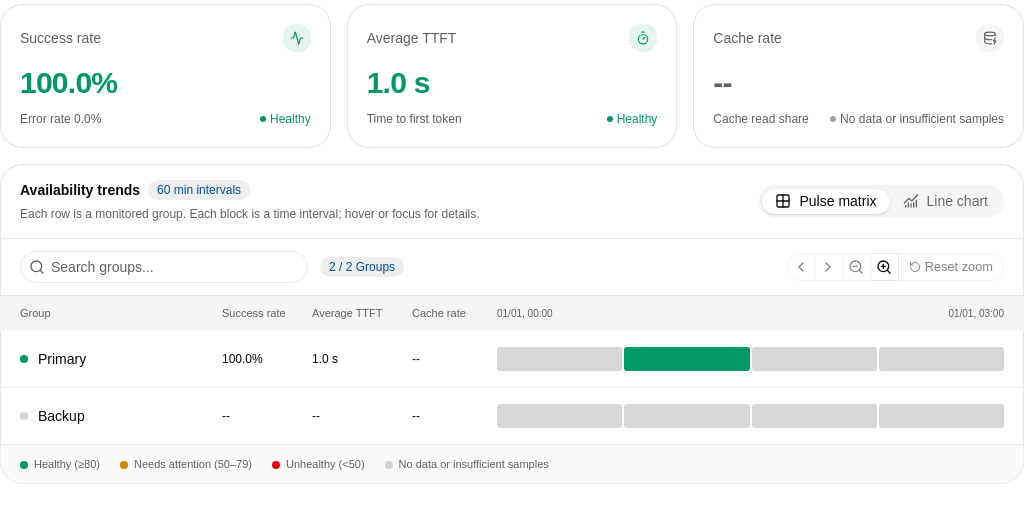
Test: channel monitoring overview › search filters group names and clearing an unmatched search restores configured empty groups
The width and height of the screenshot is (1024, 514).
Type " primary " into the search field labelled "Search groups...".
click(176, 267); type(" primary ")  # box [45,251,307,283]
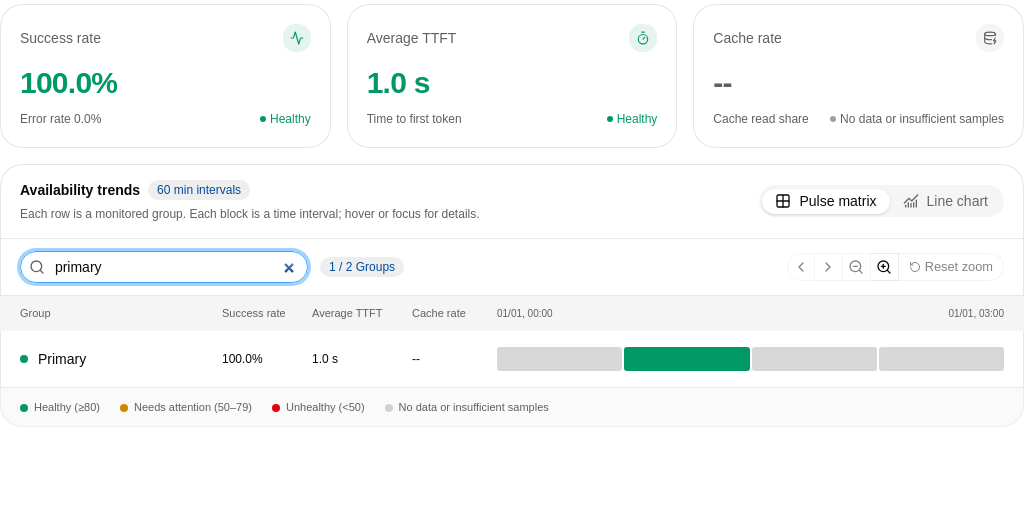
Check: the cell "Primary" is shown, box [20,351,86,367]
Check: the text "Backup" is gone
Replace the text in the search field named "Search groups..." with "missing" at (176, 267), box [45,251,307,283]
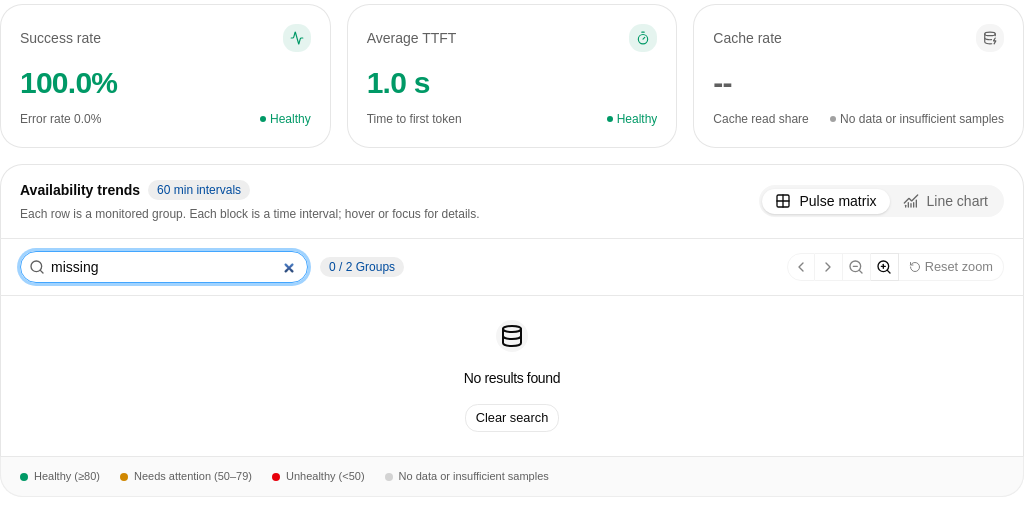
Check: the text "No results found" is shown, box [464,368,560,388]
Clear the search field named "Search groups..." at (176, 267), box [45,251,307,283]
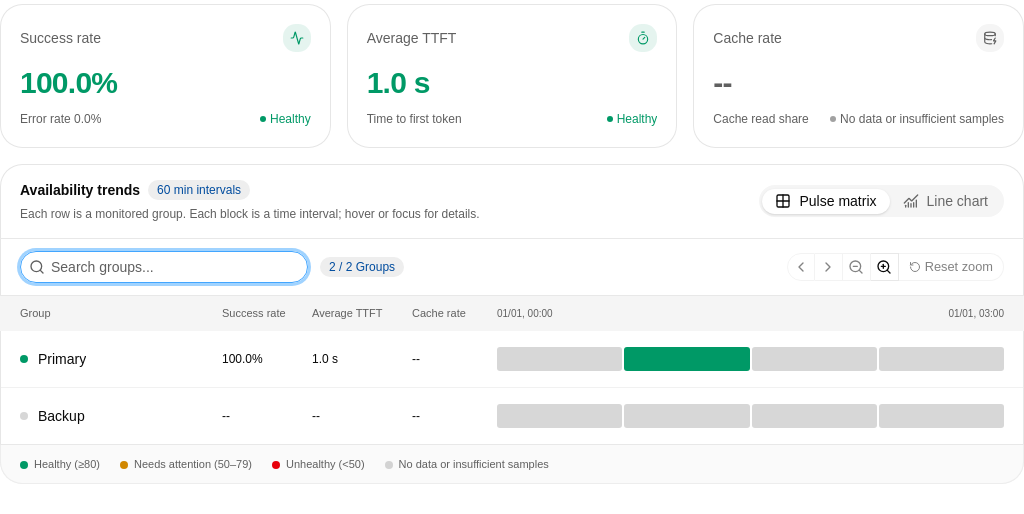
Check: the cell "Backup" is shown, box [20,408,85,424]
